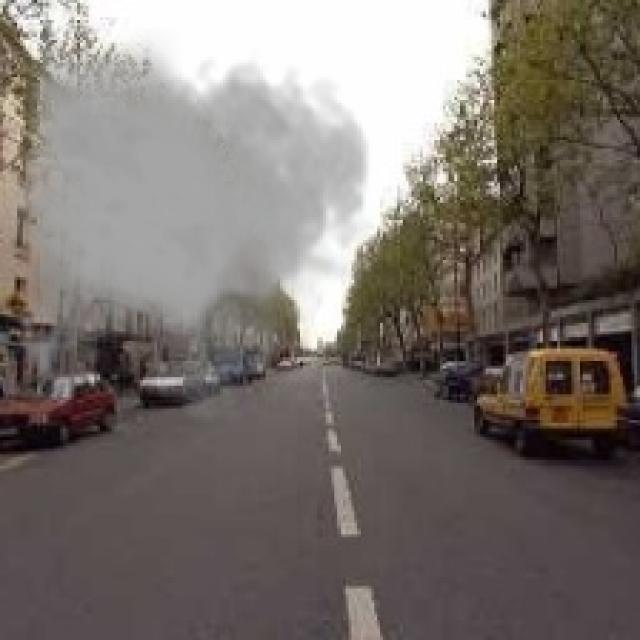smoke: (6, 28, 374, 423)
